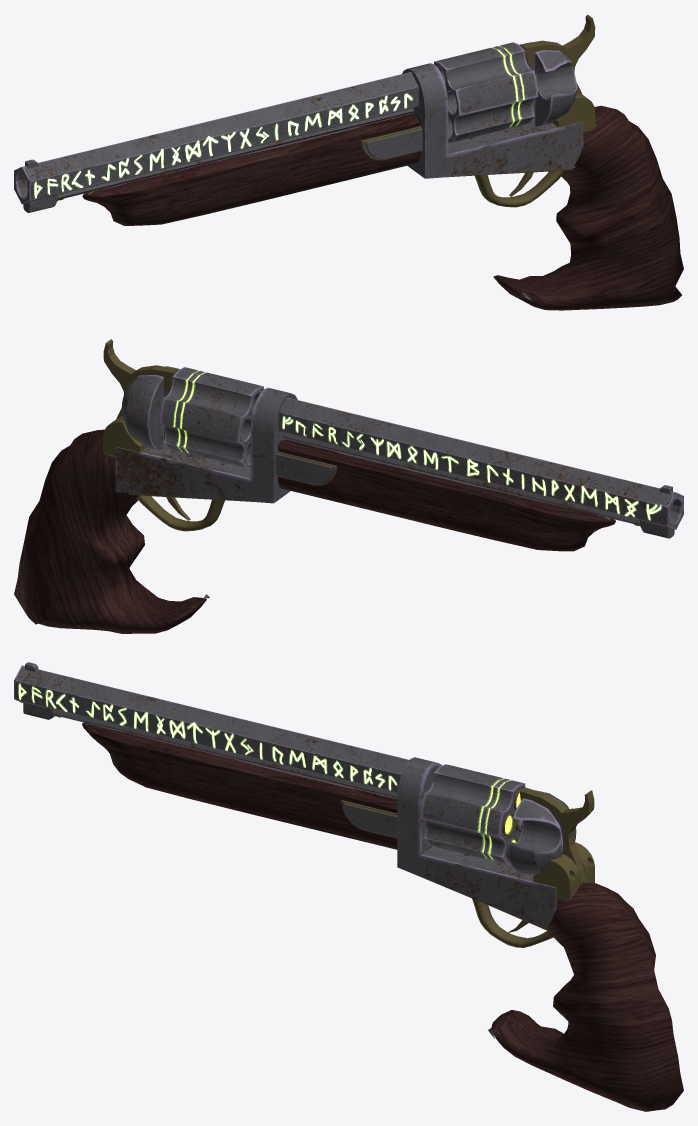
Rendered from runic_revolver.glb.
The picture shows the model from 3 angles, top to bottom: view 1: azimuth 30°, elevation 25°; view 2: azimuth 150°, elevation 25°; view 3: azimuth 330°, elevation 25°; orthographic projection.
Parts seen in each view (by area): view 1: Low_main1, Low_handle, Low_chamber, Low_hammer; view 2: Low_main1, Low_handle, Low_chamber, Low_hammer; view 3: Low_main1, Low_handle, Low_chamber, Low_hammer.
Boxes of the visible parts, box(x1,y1,x2,y2) form: Low_main1: box(14, 42, 595, 300); Low_handle: box(493, 105, 683, 310); Low_chamber: box(433, 42, 538, 143); Low_hammer: box(520, 14, 595, 93); Low_main1: box(103, 366, 683, 598); Low_handle: box(14, 429, 206, 633); Low_chamber: box(160, 367, 263, 468); Low_hammer: box(103, 339, 178, 418); Low_main1: box(14, 662, 594, 1038); Low_handle: box(491, 882, 683, 1111); Low_chamber: box(420, 764, 525, 865); Low_hammer: box(519, 787, 594, 883).
Size of the model in its own units: 0.1223 by 0.0525 by 0.0135.
1 material, 1 textured.
